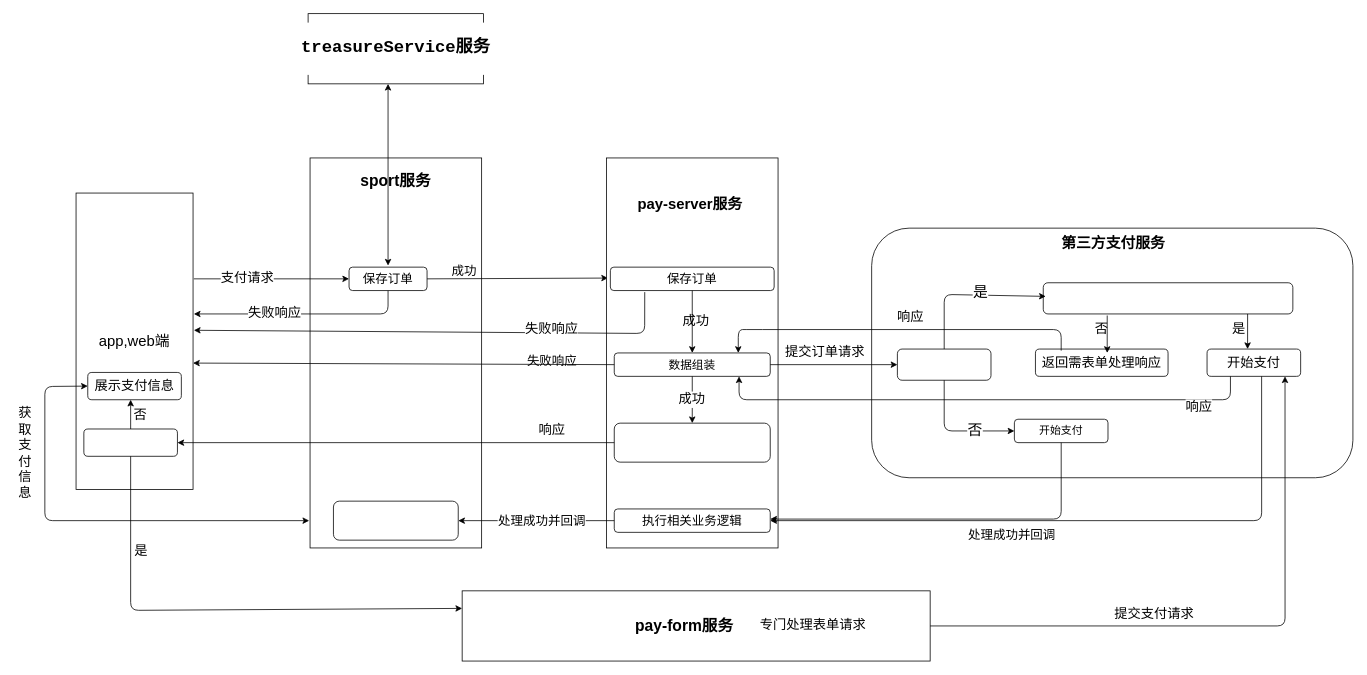
Some shapes in this 1367 by 675 pixel diagram are drawn without their labels. Here are the shapes that lost their labels. From the top down, the centre of each, then its label:
the point at 1167,298: 调用方是否是表单请求
the point at 944,364: 是否表单处理
the point at 130,442: 是否跳转服务
the point at 691,442: 数据处理
the point at 395,520: 执行相关业务逻辑 支付信息写 入 邮件表
